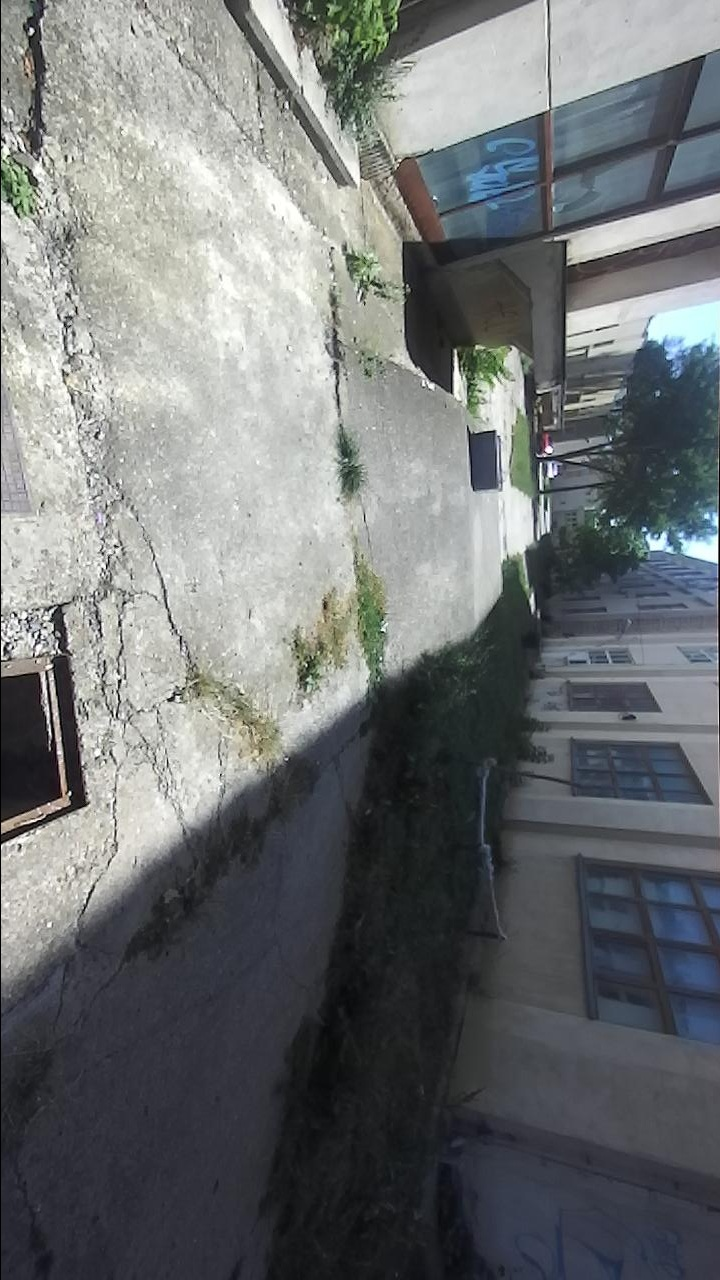drain: (1, 640, 87, 849)
